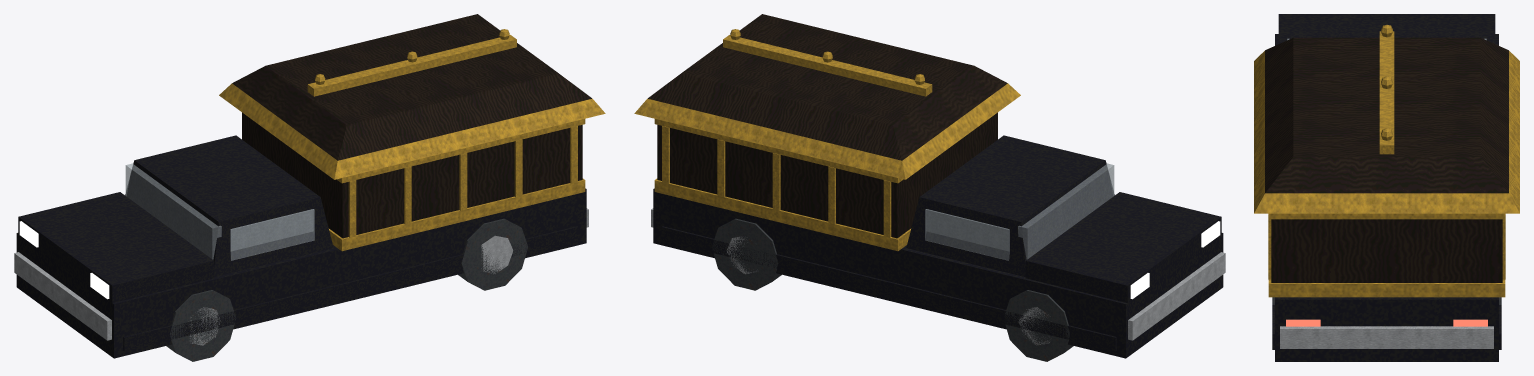
The model's file is hearse.glb.
3 views of the same model, side by side, from view 1: azimuth 30°, elevation 25°; view 2: azimuth 150°, elevation 25°; view 3: azimuth 270°, elevation 25° (orthographic). The views are drawn at different scales.
Parts seen in each view (by area): view 1: hearse; view 2: hearse; view 3: hearse.
Part boxes in pixels (left/top/right/bottom): hearse: left=14, top=14, right=605, bottom=361; hearse: left=634, top=14, right=1225, bottom=361; hearse: left=1254, top=14, right=1519, bottom=361.
Size of the model in its own units: 5.26 by 2.15 by 2.16.
8 materials, 6 textured.
